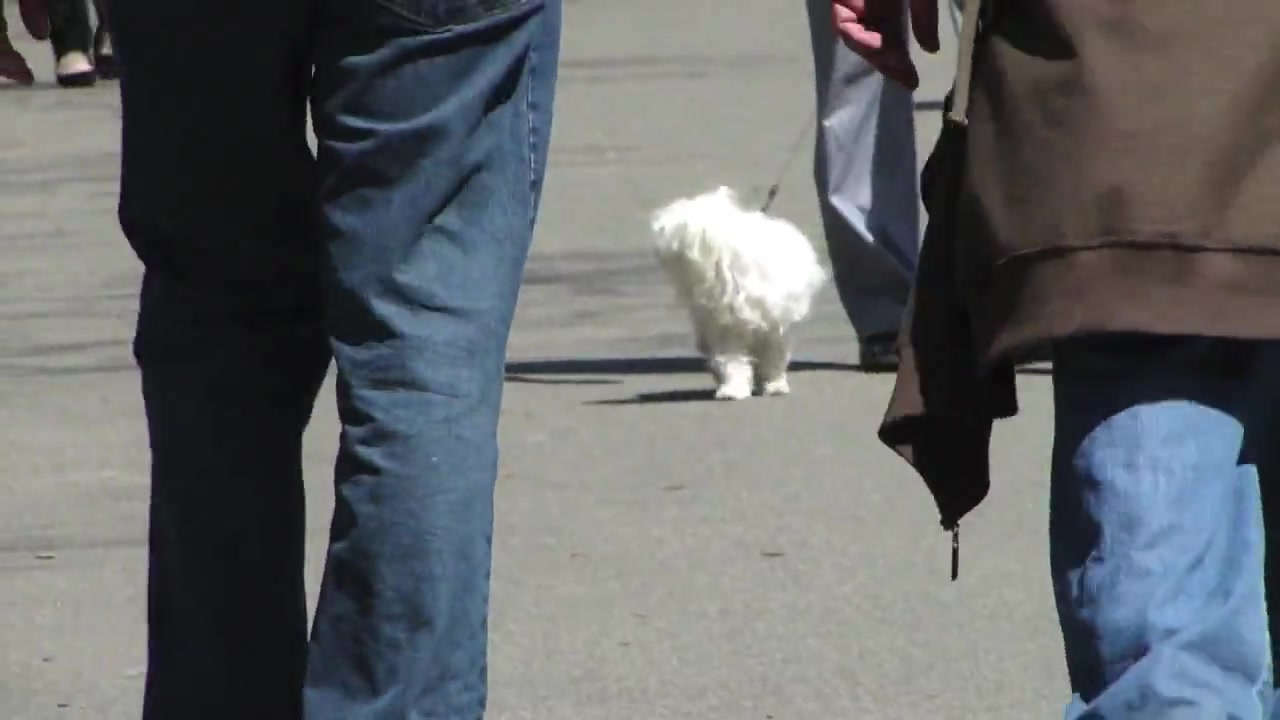dog: (649, 182, 830, 403)
